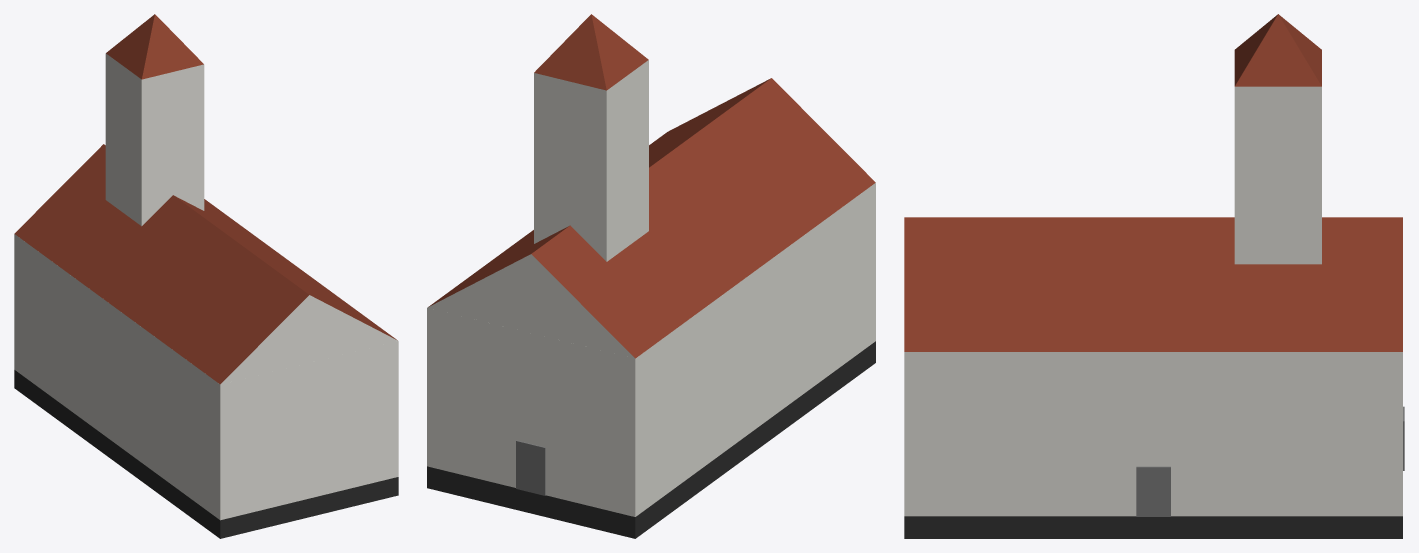
File: church_1.Df_po8RD.glb
The picture shows the model from 3 angles, left to right: view 1: azimuth 30°, elevation 25°; view 2: azimuth 150°, elevation 25°; view 3: azimuth 270°, elevation 25°; orthographic projection. The views are drawn at different scales.
Parts seen in each view (by area): view 1: base, roof, Cube; view 2: base, roof, Cube, door_1; view 3: base, roof, Cube, door_2.
Boxes of the visible parts, <box> form: base: <box>14,234,398,538</box>; roof: <box>14,144,397,384</box>; Cube: <box>105,14,204,226</box>; base: <box>427,183,875,538</box>; roof: <box>427,78,875,358</box>; Cube: <box>534,14,648,261</box>; door_1: <box>516,440,545,495</box>; base: <box>904,352,1402,538</box>; roof: <box>904,217,1402,351</box>; Cube: <box>1234,14,1321,264</box>; door_2: <box>1136,466,1170,516</box>.
Bounding box in the file's own units: 1.01 × 2.09 × 2.01.
